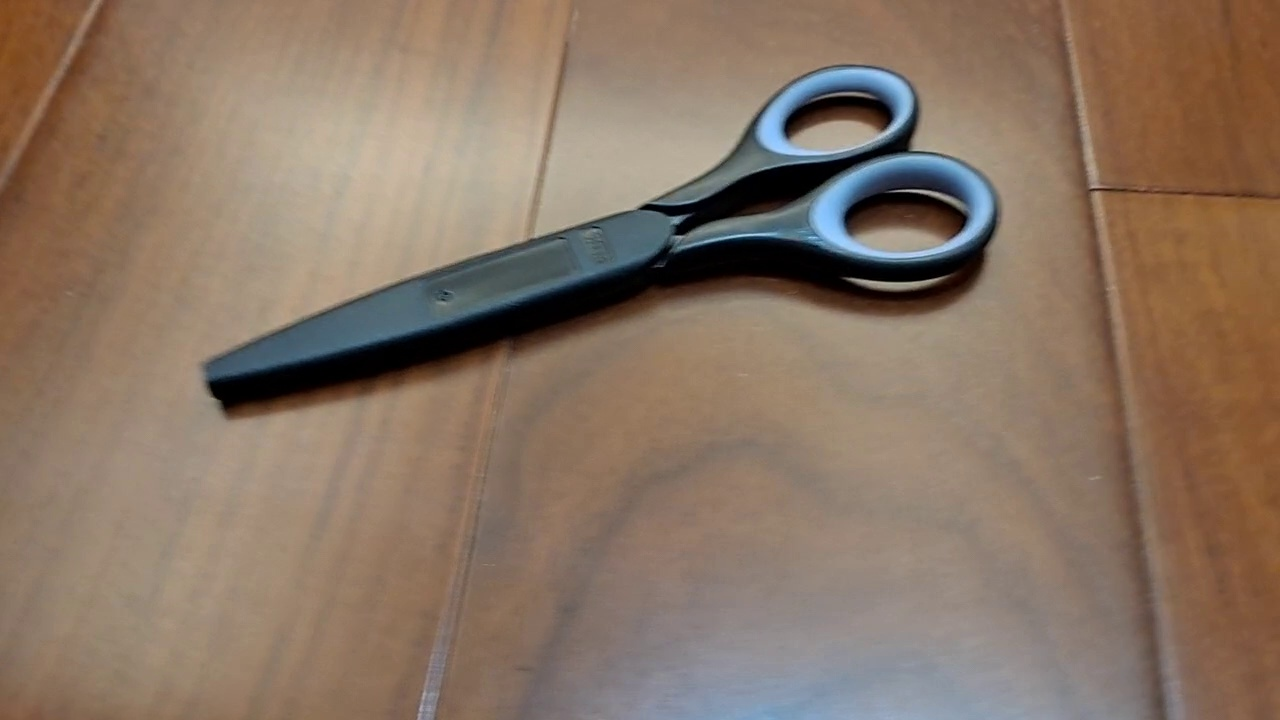scissors: (196, 62, 1002, 413)
